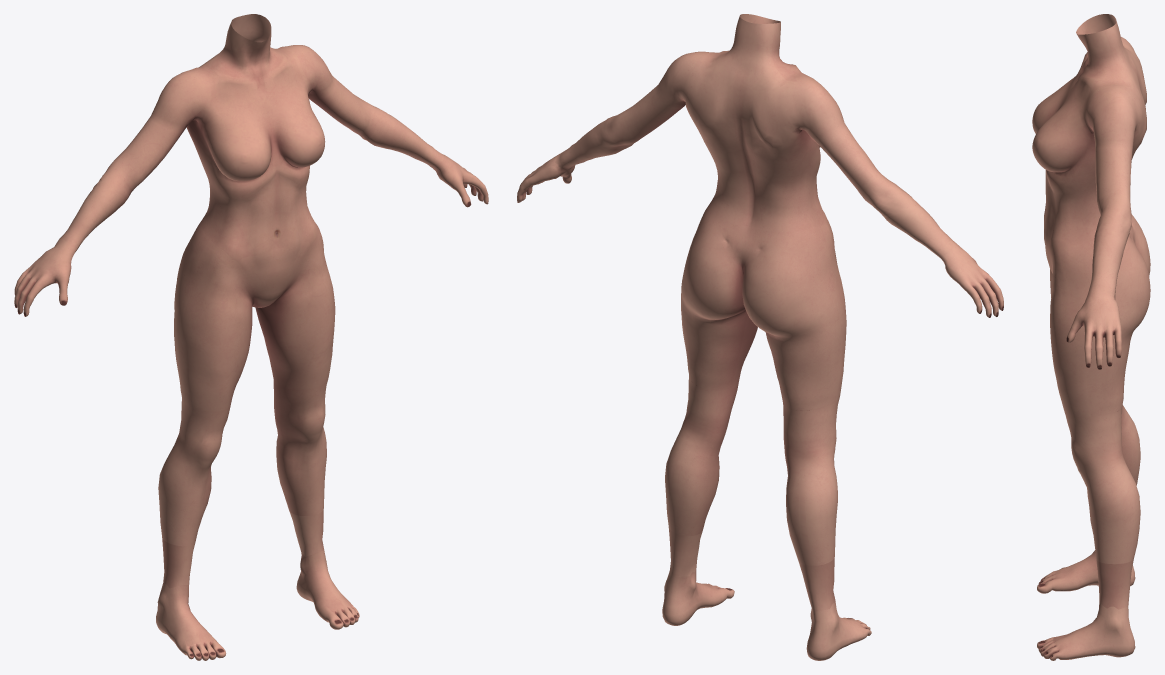
The model's file is MyBody LowpolyTest.fbx.
The picture shows the model from 3 angles, left to right: view 1: azimuth 30°, elevation 25°; view 2: azimuth 150°, elevation 25°; view 3: azimuth 270°, elevation 25°; orthographic projection. The views are drawn at different scales.
Parts seen in each view (by area): view 1: Body.006 NORMAL MAP CAN DELETE.001; view 2: Body.006 NORMAL MAP CAN DELETE.001; view 3: Body.006 NORMAL MAP CAN DELETE.001.
Part boxes in pixels (box(x1,y1,x2,y2)): Body.006 NORMAL MAP CAN DELETE.001: box(14, 14, 488, 660); Body.006 NORMAL MAP CAN DELETE.001: box(517, 14, 1003, 660); Body.006 NORMAL MAP CAN DELETE.001: box(1032, 14, 1150, 660).
Bounding box in the file's own units: 131 × 162 × 28.84.
1 material, 1 textured.
